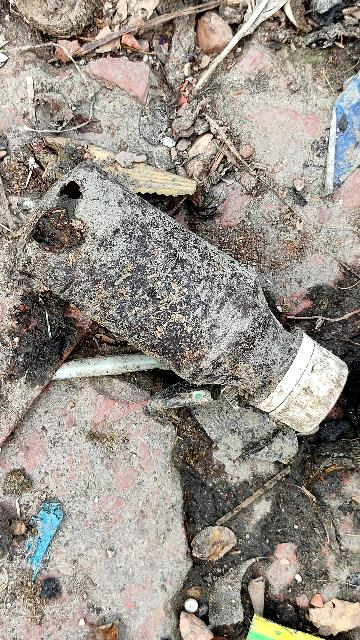bottle: (14, 155, 360, 464)
